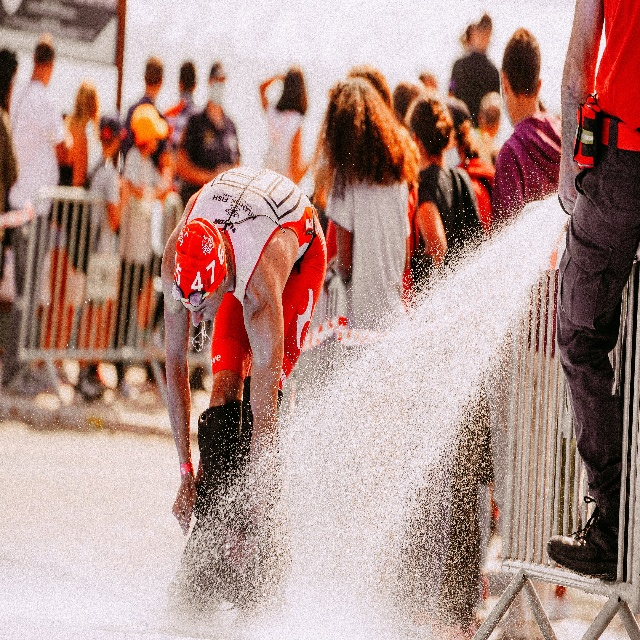Sin_guantes: (170, 470, 197, 537)
